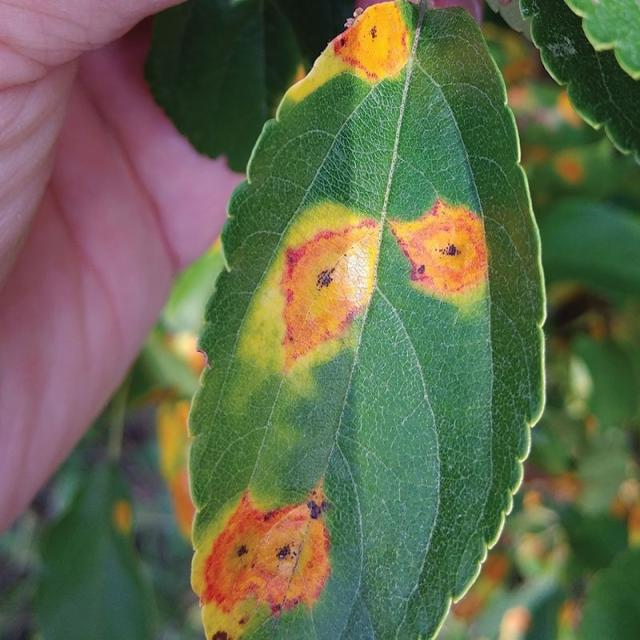Gymnosporangium_Rusts: (185, 1, 548, 637)
